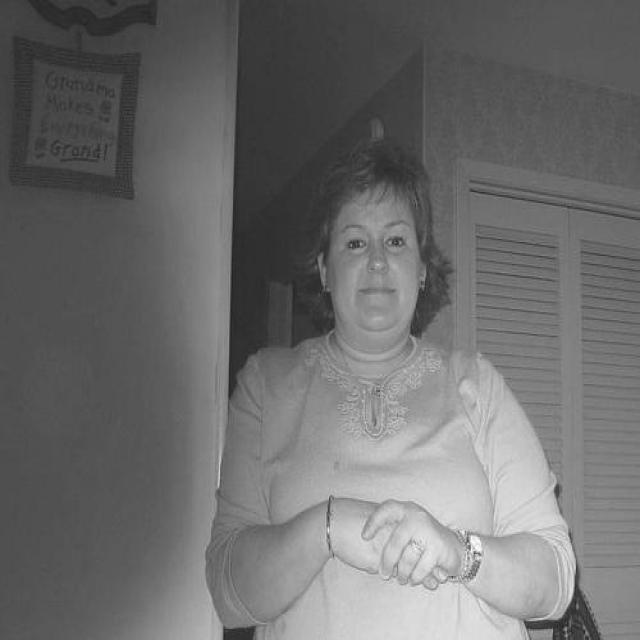No_Gloves: (361, 490, 470, 599), (346, 488, 454, 592)
